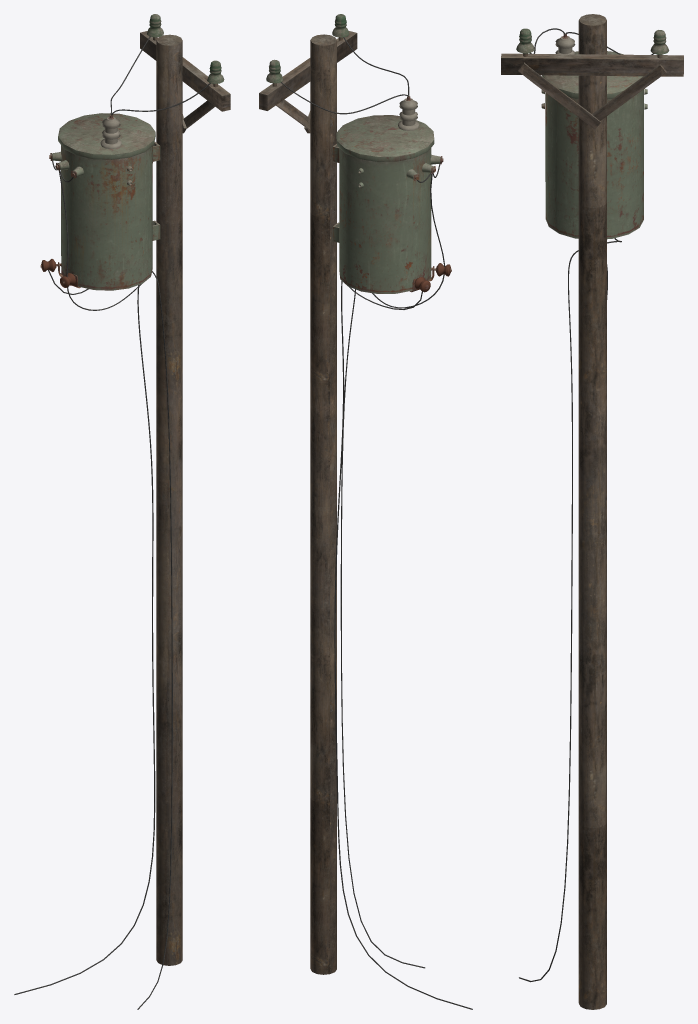
File: SM_ElectricalPole_A.fbx
3 renders of one model, left to right at view 1: azimuth 30°, elevation 25°; view 2: azimuth 150°, elevation 25°; view 3: azimuth 270°, elevation 25°, orthographic. The views are drawn at different scales.
Visible parts, largest first — view 1: SM_ElectricalPole_A_LOD0; view 2: SM_ElectricalPole_A_LOD0; view 3: SM_ElectricalPole_A_LOD0.
Part boxes in pixels (x1=…): SM_ElectricalPole_A_LOD0: x1=14, y1=14, x2=230, y2=1009; SM_ElectricalPole_A_LOD0: x1=259, y1=14, x2=472, y2=1009; SM_ElectricalPole_A_LOD0: x1=501, y1=14, x2=683, y2=1009.
Size of the model in its own units: 117 by 98.34 by 589.
Materials: 1 (1 with a texture image).
